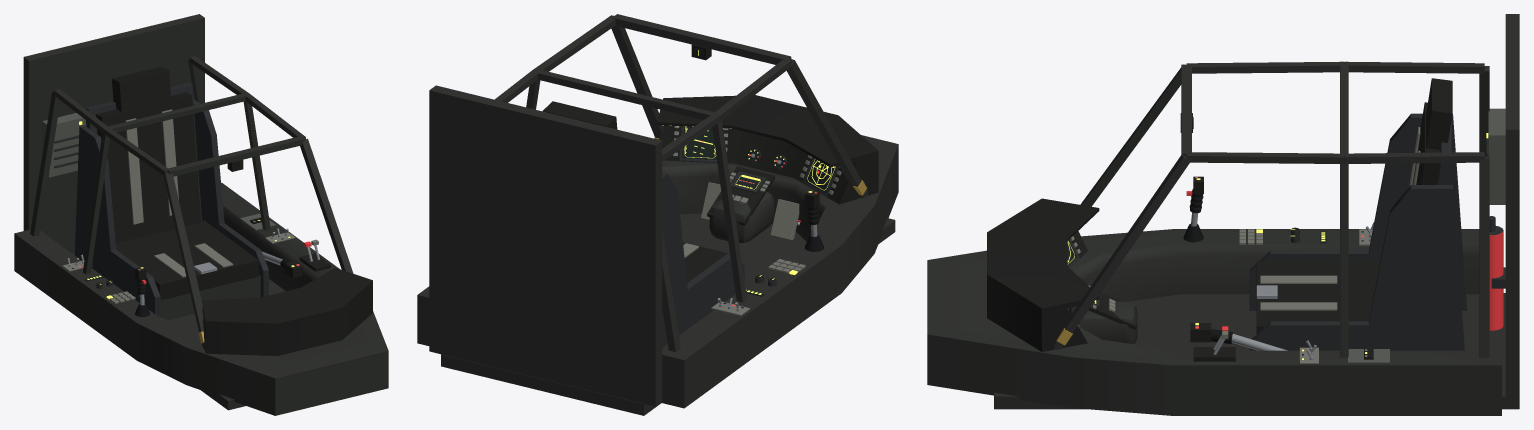
File: Cockpit_Gunship.fbx
3 views of the same model, side by side, from view 1: azimuth 30°, elevation 25°; view 2: azimuth 150°, elevation 25°; view 3: azimuth 270°, elevation 25° (orthographic). The views are drawn at different scales.
Visible parts, largest first — view 1: Cockpit_Gunship; view 2: Cockpit_Gunship; view 3: Cockpit_Gunship.
Boxes of the visible parts, x1=… form: Cockpit_Gunship: x1=14, y1=14, x2=388, y2=415; Cockpit_Gunship: x1=417, y1=14, x2=898, y2=415; Cockpit_Gunship: x1=927, y1=14, x2=1519, y2=415.
Bounding box in the file's own units: 0.92 × 0.9 × 1.69.
